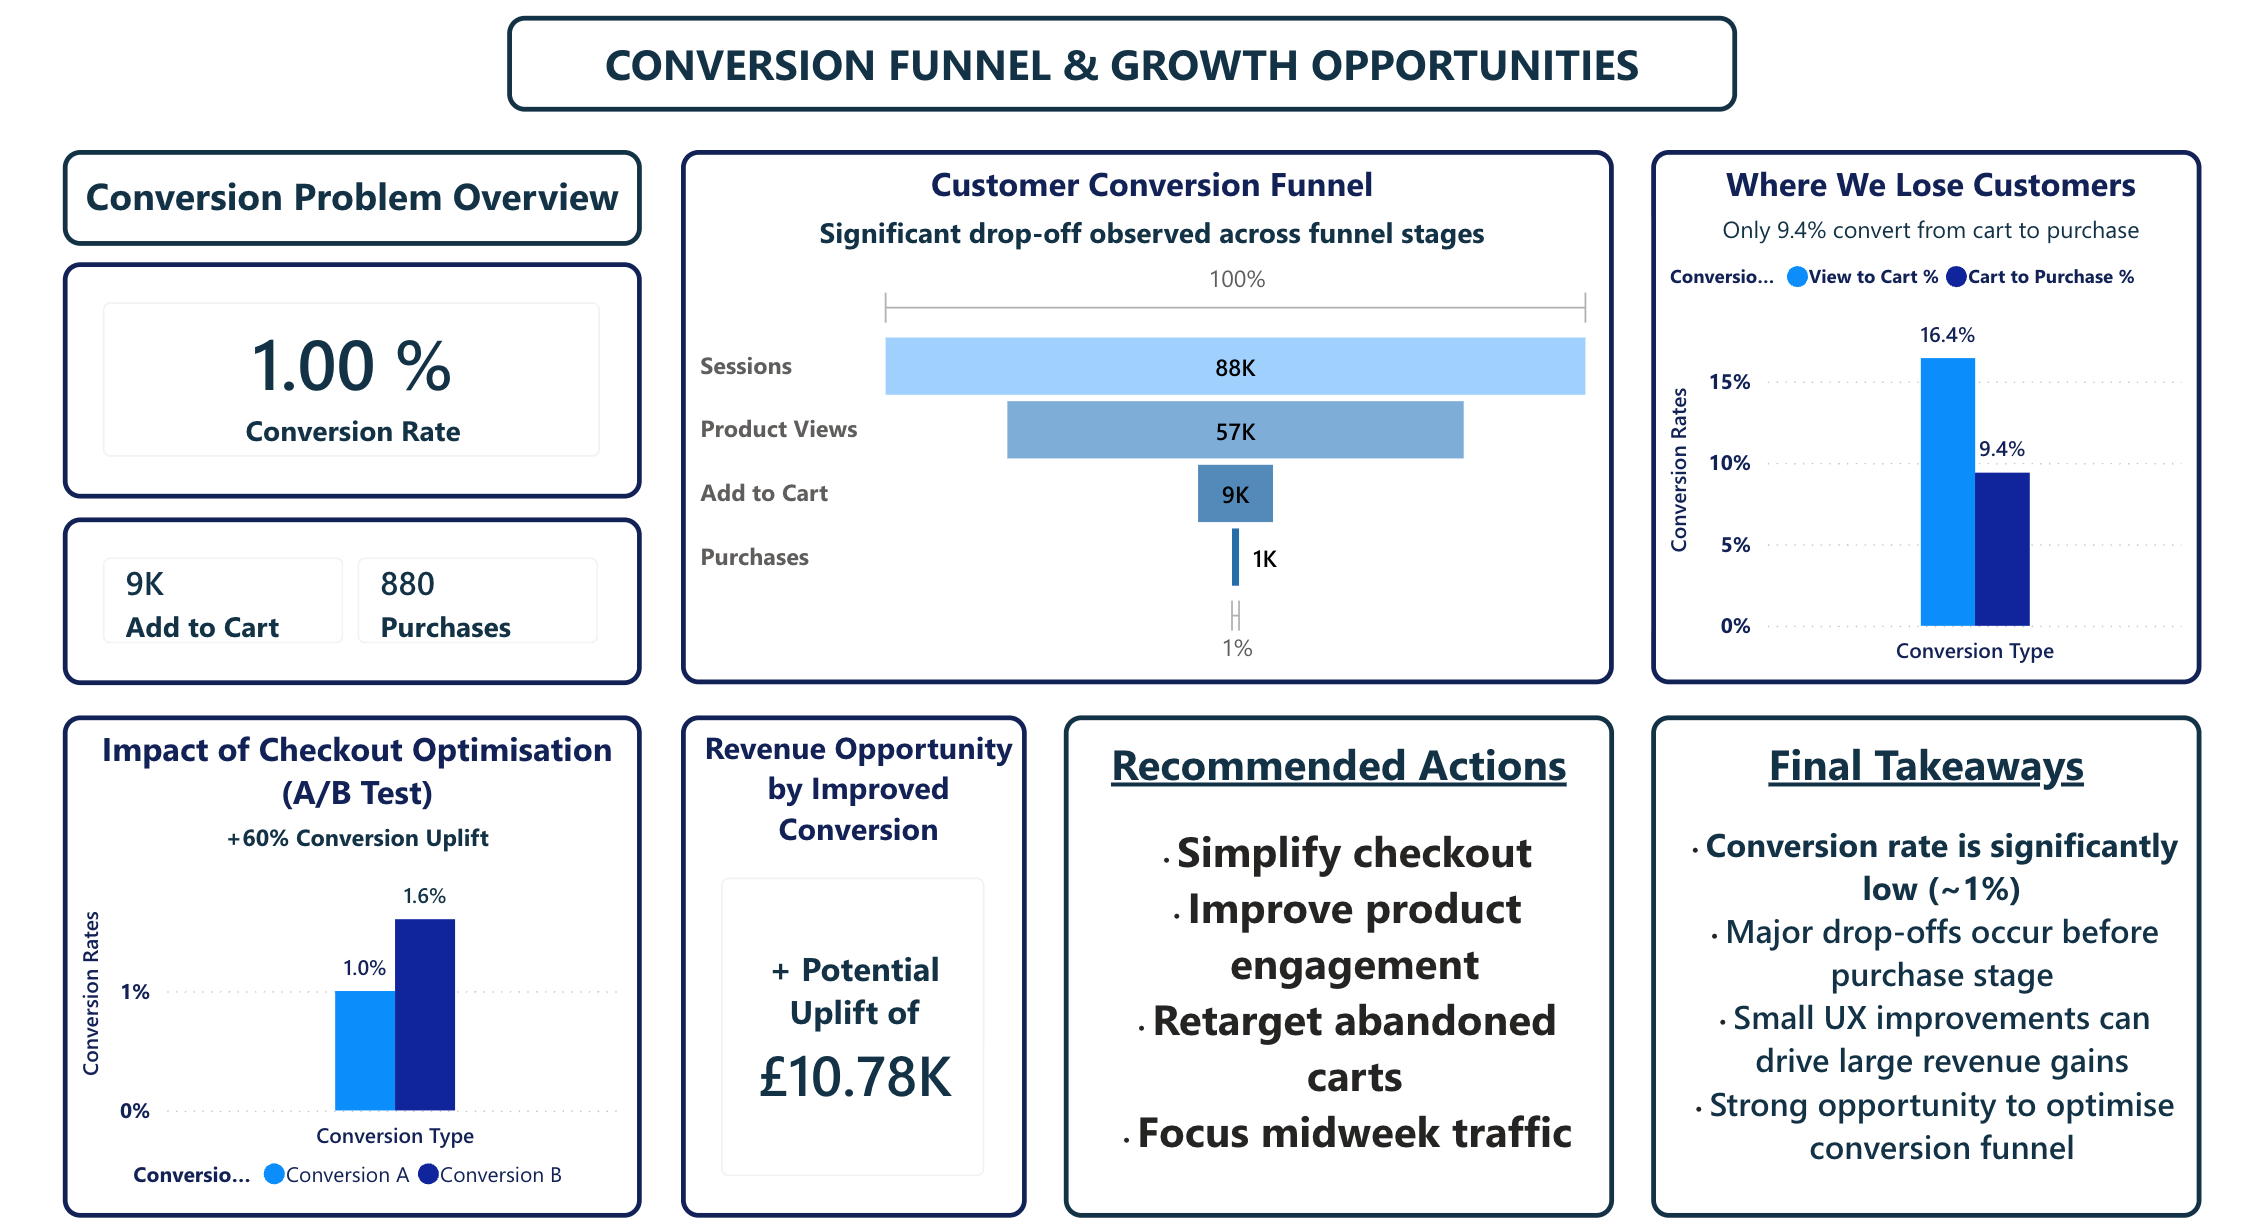

The page's visual inventory and layout, read from the dashboard file:
{"tool":"powerbi","page":{"name":"Conversions & Growths","canvas":[1280,720],"ordinal":2},"visuals":[{"type":"clusteredColumnChart","title":"Impact of Checkout Optimisation (A/B Test)","fields":{"Y":["online_retail_II.Conversion A","online_retail_II.Conversion B"]},"box":[36.3,409.8,329.7,285.8],"z":0},{"type":"cardVisual","title":"Order Volume by Customer","fields":{"Data":["online_retail_II.Add to Cart","online_retail_II.Purchases"]},"box":[36.3,296.4,329.7,95.3],"z":1000},{"type":"textbox","box":[288.7,11.3,700,54.7],"z":2000},{"type":"textbox","box":[606.5,409.8,313.1,285.8],"z":3000},{"type":"funnel","title":"Customer Conversion Funnel","fields":{"Y":["online_retail_II.Sessions","online_retail_II.Product Views","online_retail_II.Add to Cart","online_retail_II.Purchases"]},"box":[388.7,87.7,530.8,304],"z":4000},{"type":"cardVisual","title":"Order Volume by Customer","fields":{"Data":["online_retail_II.Conversion Rate"]},"box":[36.3,151.2,329.7,134.6],"z":5000},{"type":"clusteredColumnChart","title":"Where We Lose Customers","fields":{"Y":["online_retail_II.View to Cart %","online_retail_II.Cart to Purchase %"]},"box":[940.7,87.7,313.1,304],"z":6000},{"type":"cardVisual","title":"Revenue Opportunity by Improved Conversion","fields":{"Data":["online_retail_II.Revenue Opportunity"]},"box":[388.7,409.8,196.6,285.8],"z":7000},{"type":"textbox","box":[940.7,409.8,313.1,285.8],"z":8000},{"type":"textbox","box":[36.3,87.7,329.7,54.4],"z":9000}]}

Visuals, with their boxes in screenshot pixels (x1, y1, x2, y2), scaled from the page's 1280x720 canvas onto the 2246x1230 screenshot:
"Impact of Checkout Optimisation (A/B Test)" clusteredColumnChart: 64/700/642/1188
"Order Volume by Customer" cardVisual: 64/506/642/669
textbox: 507/19/1735/113
textbox: 1064/700/1614/1188
"Customer Conversion Funnel" funnel: 682/150/1613/669
"Order Volume by Customer" cardVisual: 64/258/642/488
"Where We Lose Customers" clusteredColumnChart: 1651/150/2200/669
"Revenue Opportunity by Improved Conversion" cardVisual: 682/700/1027/1188
textbox: 1651/700/2200/1188
textbox: 64/150/642/243
